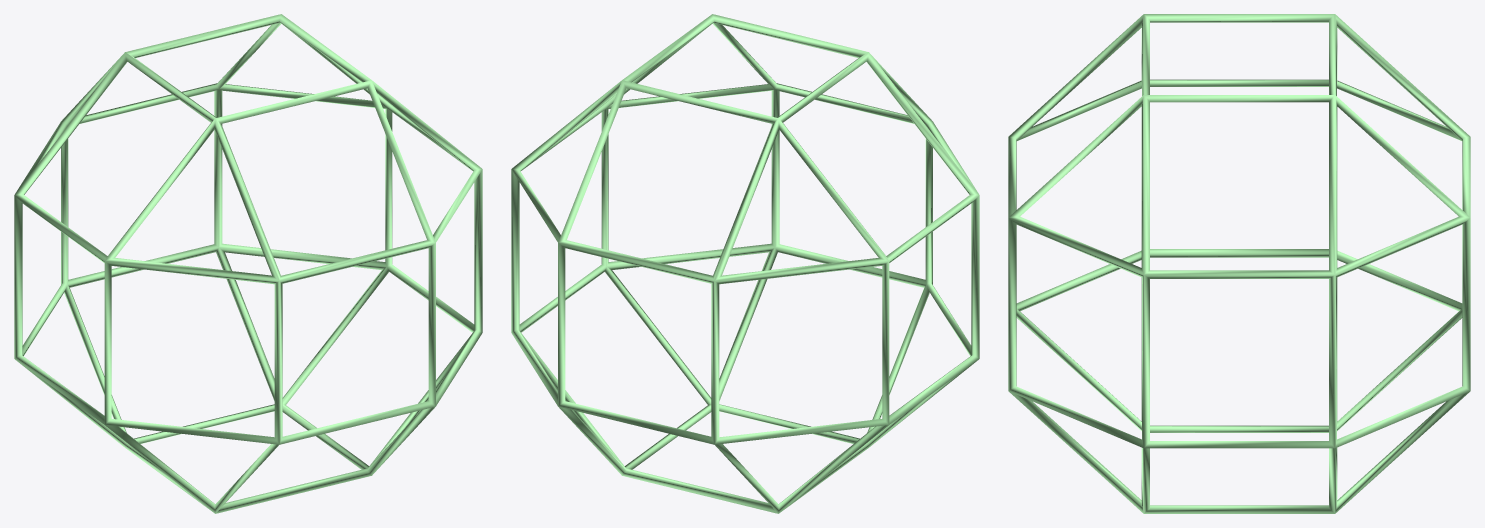
File: Rhombicuboctahedron2.glb
The picture shows the model from 3 angles, left to right: view 1: azimuth 30°, elevation 25°; view 2: azimuth 150°, elevation 25°; view 3: azimuth 270°, elevation 25°; orthographic projection. The views are drawn at different scales.
Visible parts, largest first — view 1: Rhombicuboctahedron; view 2: Rhombicuboctahedron; view 3: Rhombicuboctahedron.
Boxes of the visible parts, left/top/right/bottom form: Rhombicuboctahedron: left=14, top=14, right=482, bottom=513; Rhombicuboctahedron: left=511, top=14, right=979, bottom=513; Rhombicuboctahedron: left=1008, top=14, right=1470, bottom=513.
Bounding box in the file's own units: 2.46 × 2.46 × 2.46.
